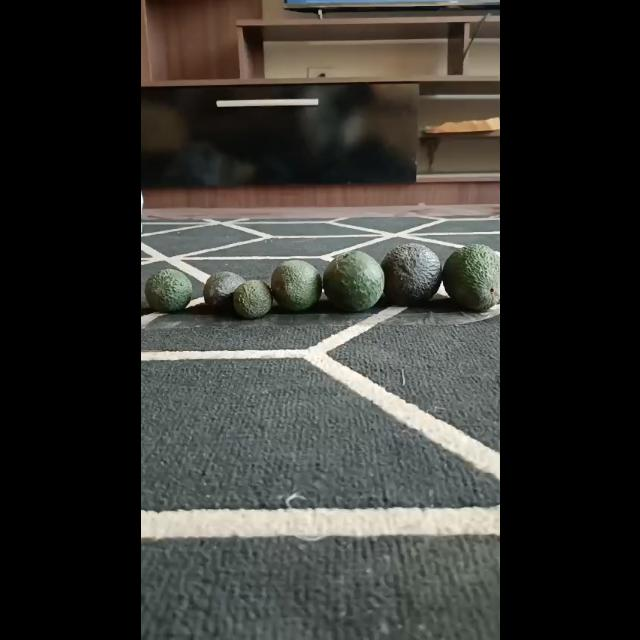Primera: (379, 242, 443, 306), (441, 243, 499, 310), (322, 250, 384, 312)
Segunda: (270, 260, 320, 312)
Tercera: (142, 268, 194, 312), (202, 270, 246, 312), (232, 279, 272, 319)
